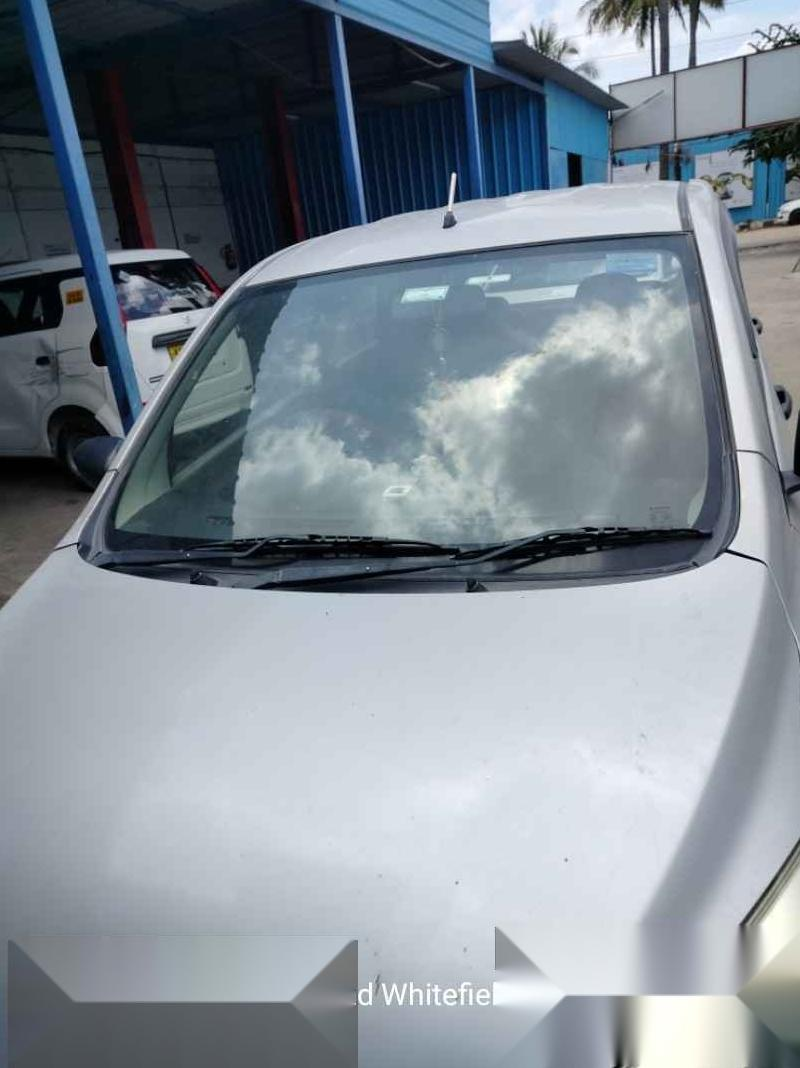FastTag: (381, 271, 462, 316)
